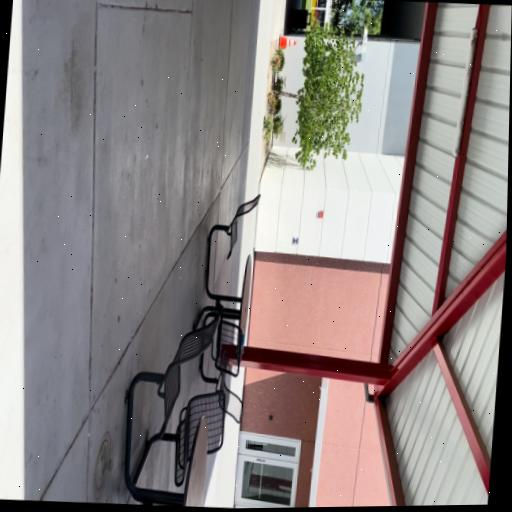target9: (292, 237, 298, 247)
